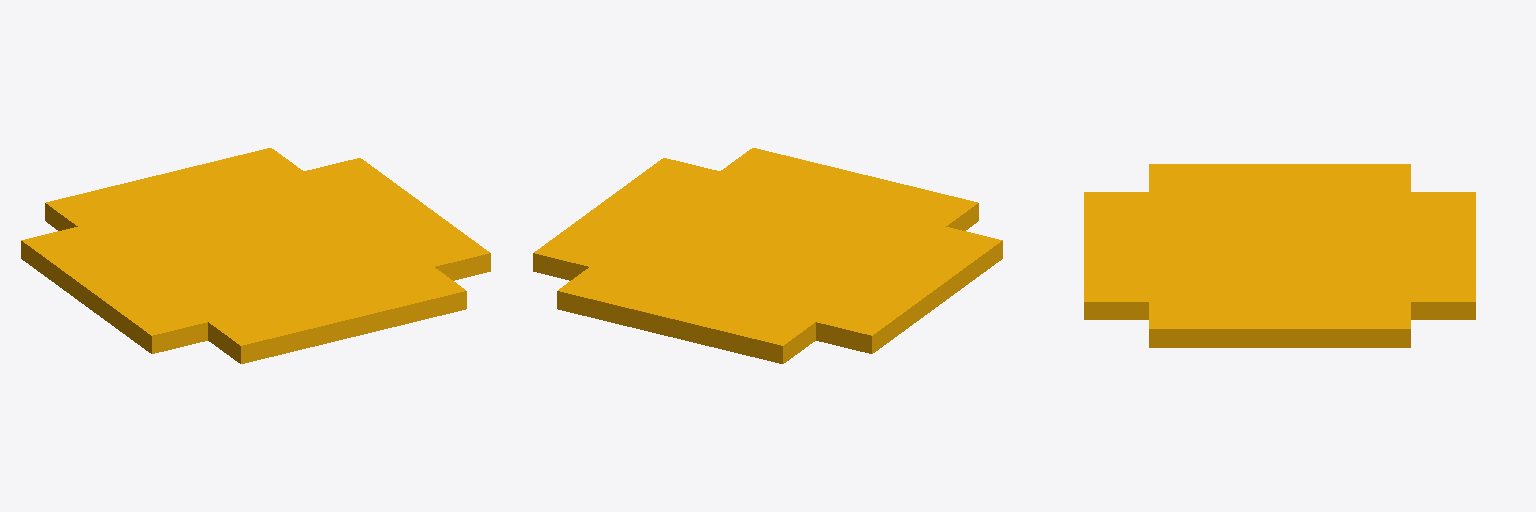
The model's file is barrier_hole.obj.
3 views of the same model, side by side, from view 1: azimuth 30°, elevation 25°; view 2: azimuth 150°, elevation 25°; view 3: azimuth 270°, elevation 25° (orthographic).
Parts seen in each view (by area): view 1: large_footprint, small_footprint; view 2: large_footprint, small_footprint; view 3: large_footprint, small_footprint.
Boxes of the visible parts, x1,y1,x2,y2 form: large_footprint: [21, 148, 490, 363]; small_footprint: [168, 210, 344, 283]; large_footprint: [533, 148, 1002, 363]; small_footprint: [679, 209, 855, 283]; large_footprint: [1084, 164, 1475, 347]; small_footprint: [1215, 219, 1343, 273].
Bounding box in the file's own units: 1.5 × 0.0781 × 1.5.